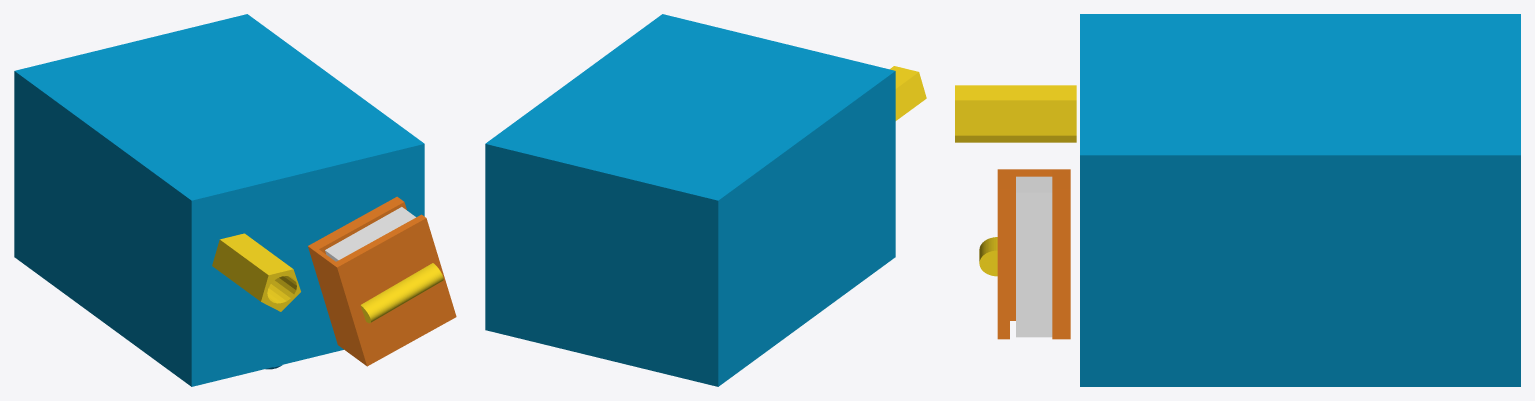
The model's file is tinker.obj.
3 views of the same model, side by side, from view 1: azimuth 30°, elevation 25°; view 2: azimuth 150°, elevation 25°; view 3: azimuth 270°, elevation 25° (orthographic). The views are drawn at different scales.
Parts seen in each view (by area): view 1: group_0_40919, group_0_16089887, group_0_16768282, group_0_16448250; view 2: group_0_40919, group_0_16768282; view 3: group_0_40919, group_0_16768282, group_0_16089887, group_0_16448250.
Boxes of the visible parts, x1,y1,x2,y2 form: group_0_40919: (14,14,424,386); group_0_16089887: (308,196,456,366); group_0_16768282: (212,233,443,323); group_0_16448250: (325,207,415,261); group_0_40919: (485,14,895,386); group_0_16768282: (890,66,926,120); group_0_40919: (1080,14,1520,386); group_0_16768282: (955,85,1076,276); group_0_16089887: (997,169,1070,339); group_0_16448250: (1016,176,1052,337).
Size of the model in its own units: 55 by 50 by 93.
